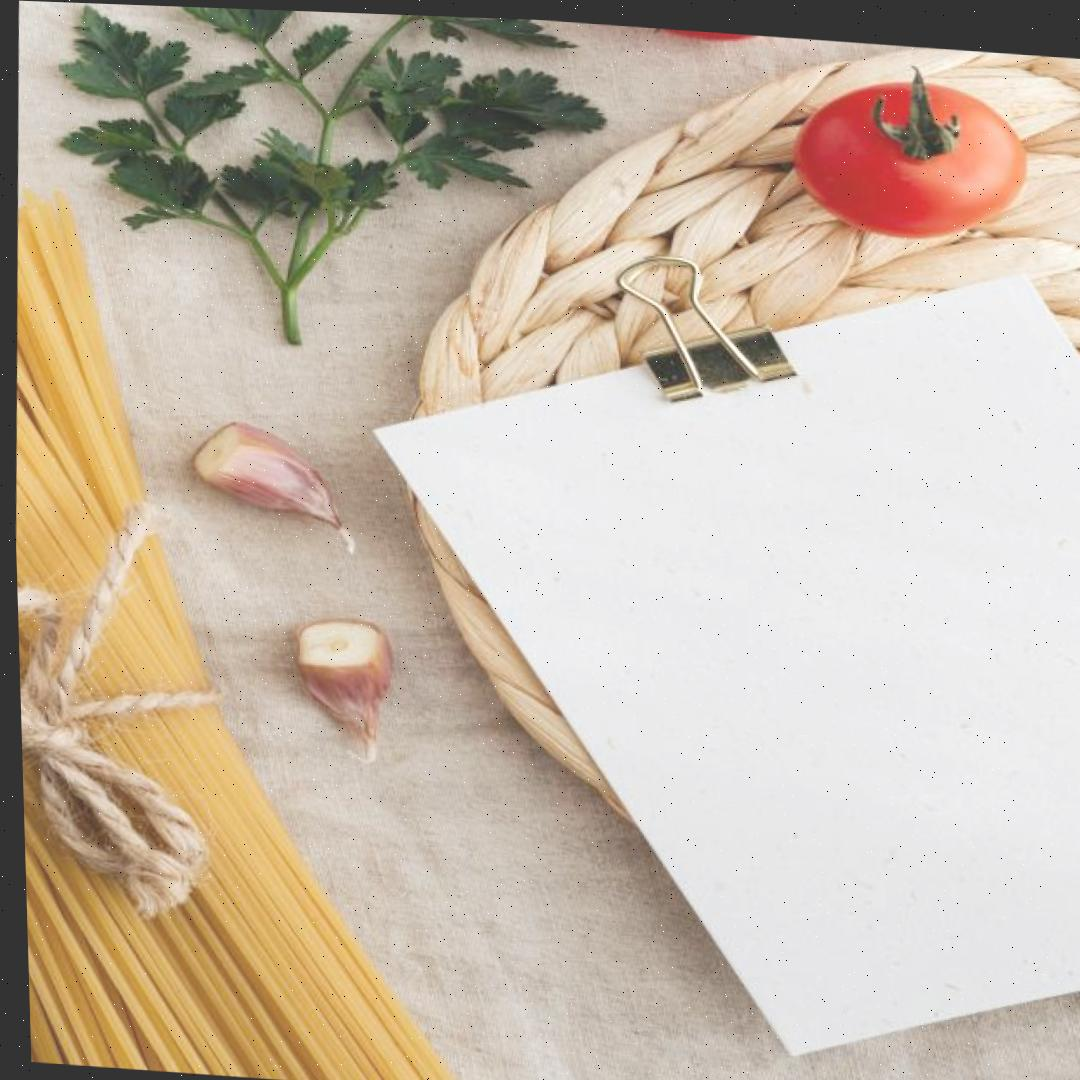matang: (790, 73, 1032, 244)
